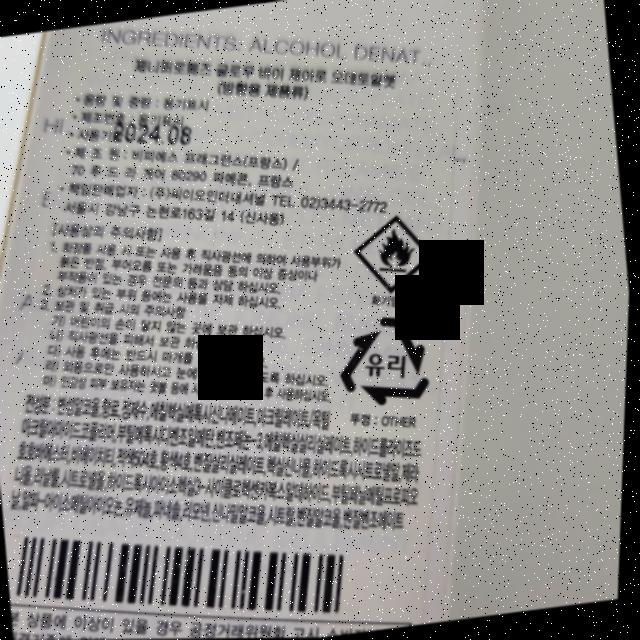Glass: (328, 307, 445, 418)
